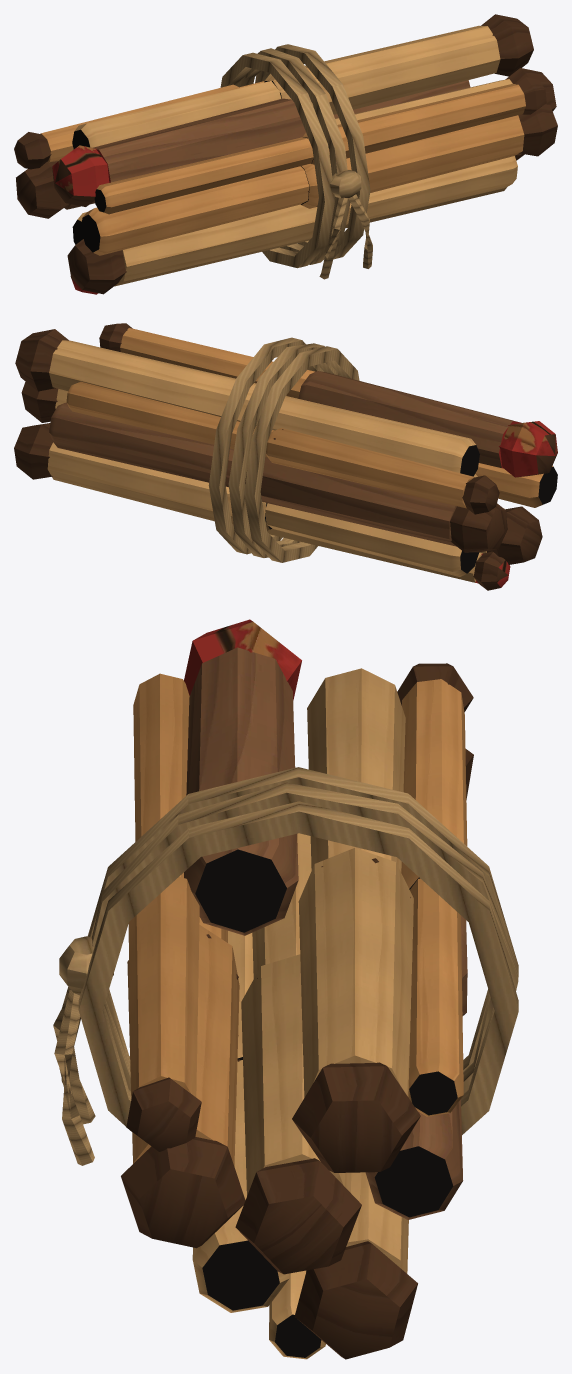
The model's file is Wooden_Limb_Bundle.glb.
3 renders of one model, top to bottom at view 1: azimuth 30°, elevation 25°; view 2: azimuth 150°, elevation 25°; view 3: azimuth 270°, elevation 25°, orthographic. The views are drawn at different scales.
Parts seen in each view (by area): view 1: Wooden_Limb_Bundle; view 2: Wooden_Limb_Bundle; view 3: Wooden_Limb_Bundle.
Part boxes in pixels (x1=…): Wooden_Limb_Bundle: x1=14, y1=14, x2=557, y2=294; Wooden_Limb_Bundle: x1=14, y1=323, x2=557, y2=590; Wooden_Limb_Bundle: x1=53, y1=619, x2=518, y2=1359.
Size of the model in its own units: 1.48 by 0.55 by 0.5819.
7 materials, 6 textured.
